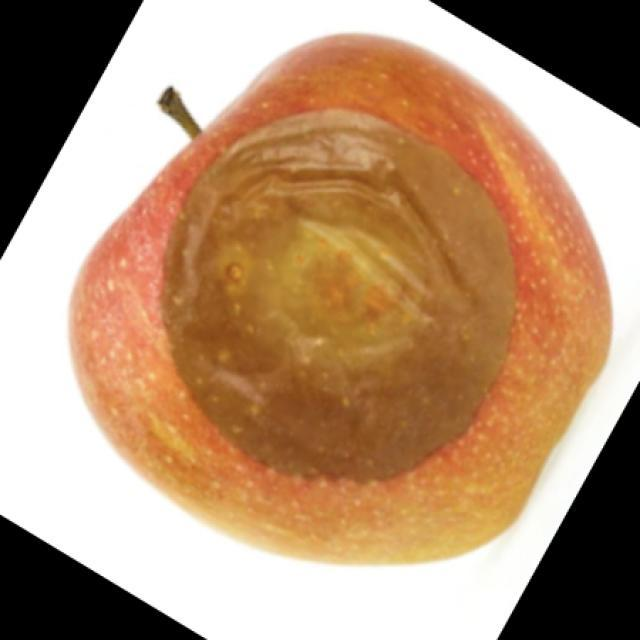Rotten: (66, 41, 592, 572)
